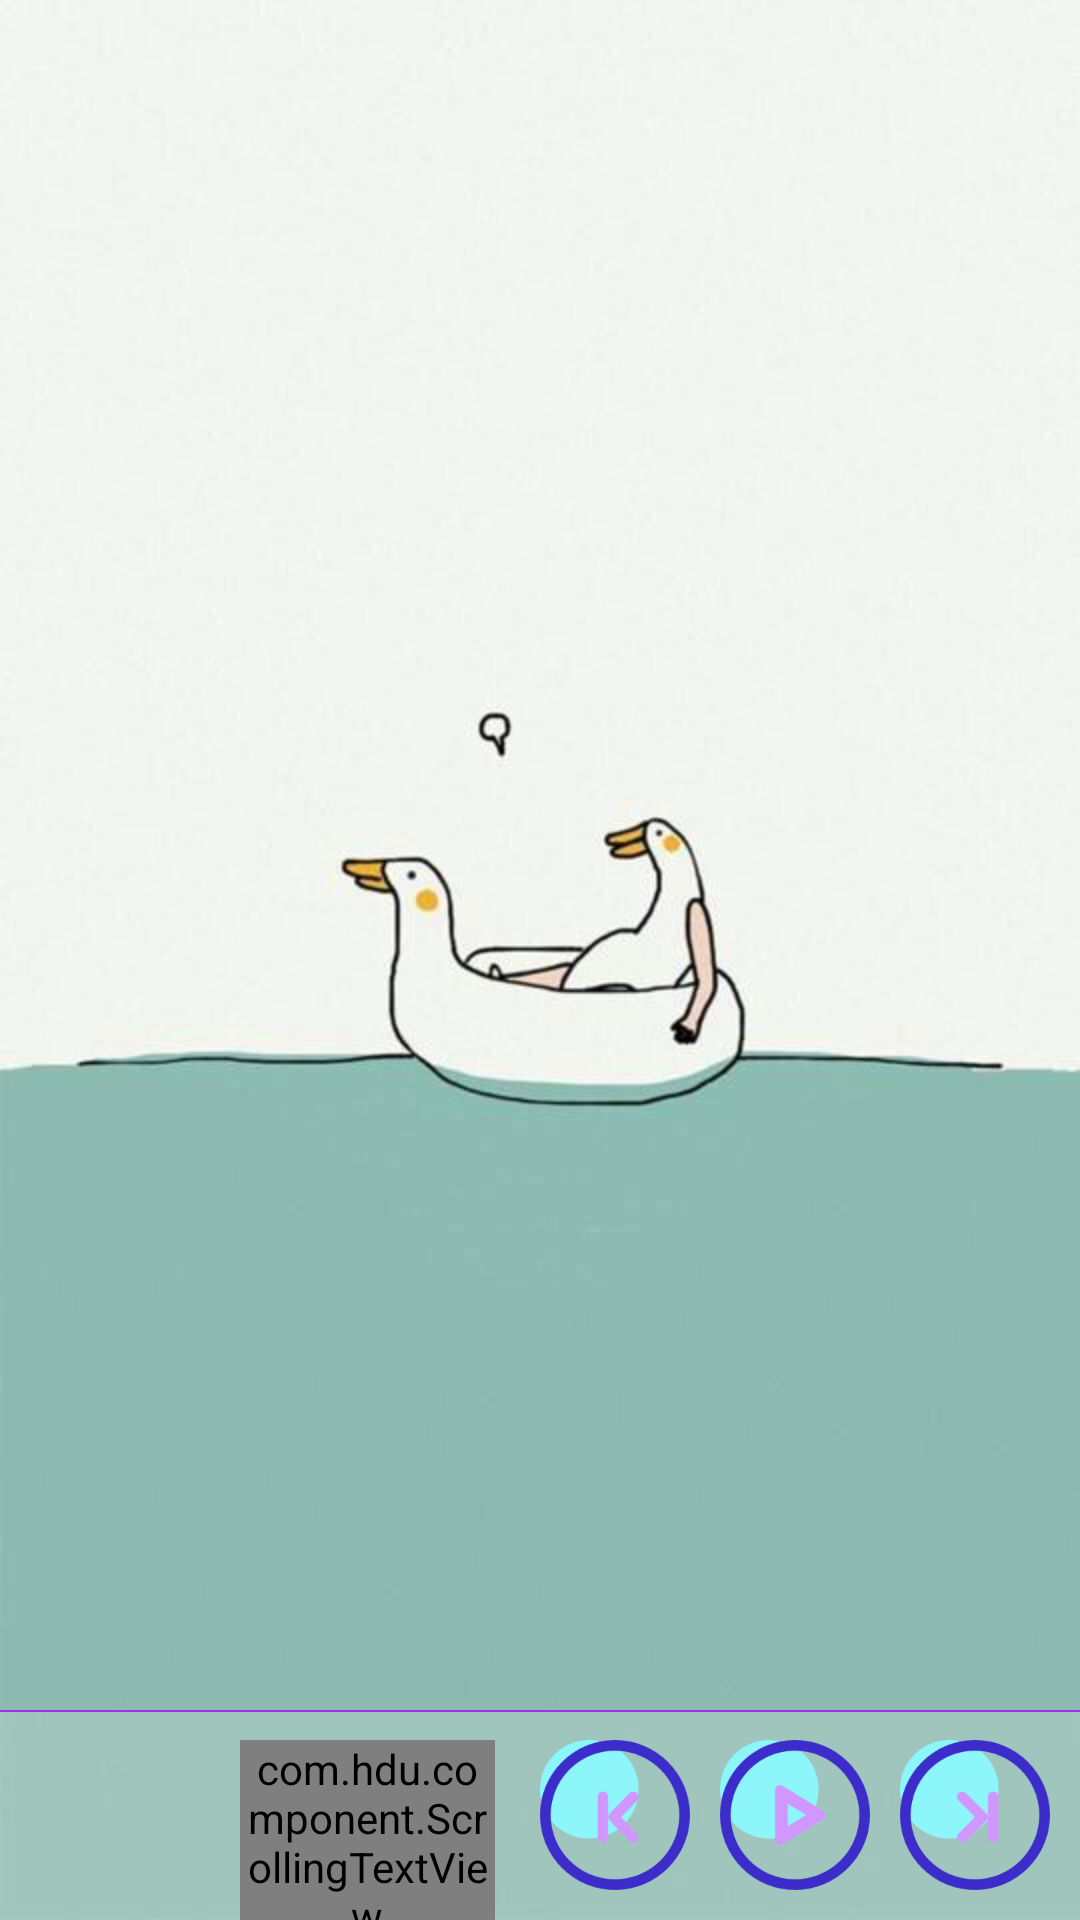

Screen size 1080 × 1920. Icon name, then its box in pixels as (left=x1, top=y1, right=x2, bottom=y2):
op last: (left=540, top=1740, right=690, bottom=1890)
op next: (left=900, top=1740, right=1050, bottom=1890)
op play: (left=720, top=1740, right=870, bottom=1890)
